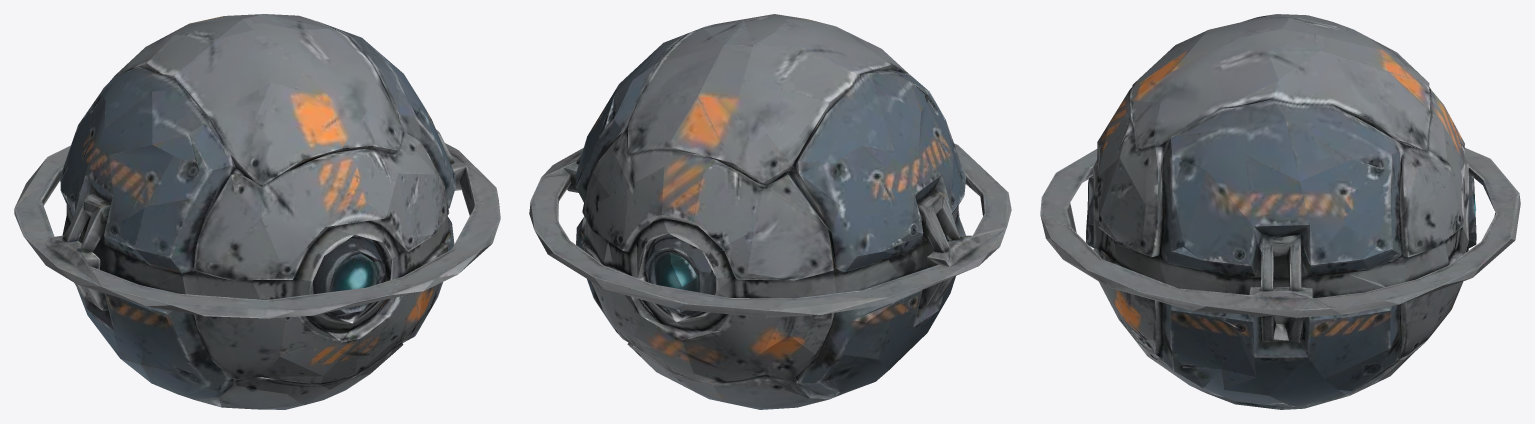
The model's file is drone.glb.
The picture shows the model from 3 angles, left to right: view 1: azimuth 30°, elevation 25°; view 2: azimuth 150°, elevation 25°; view 3: azimuth 270°, elevation 25°; orthographic projection.
Parts seen in each view (by area): view 1: Mesh_0; view 2: Mesh_0; view 3: Mesh_0.
Part boxes in pixels (left/top/right/bottom): Mesh_0: left=14, top=14, right=500, bottom=409; Mesh_0: left=529, top=14, right=1011, bottom=409; Mesh_0: left=1040, top=14, right=1520, bottom=409.
Size of the model in its own units: 0.7 by 0.578 by 0.6976.
1 material, 1 textured.
